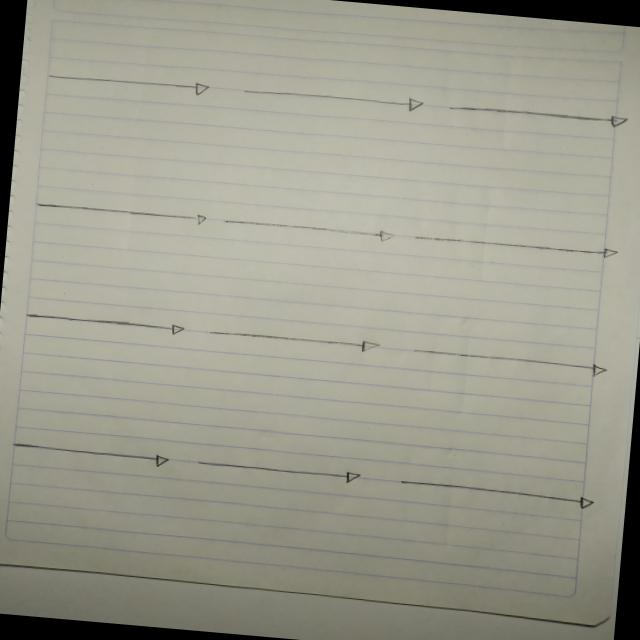arrow_line_right: (398, 337, 622, 386), (388, 468, 606, 518), (408, 228, 632, 268), (198, 320, 394, 364), (1, 430, 184, 475), (190, 450, 382, 492), (440, 95, 632, 134), (233, 80, 431, 116), (17, 302, 193, 341), (36, 64, 215, 102), (26, 194, 212, 230), (214, 212, 406, 245)
